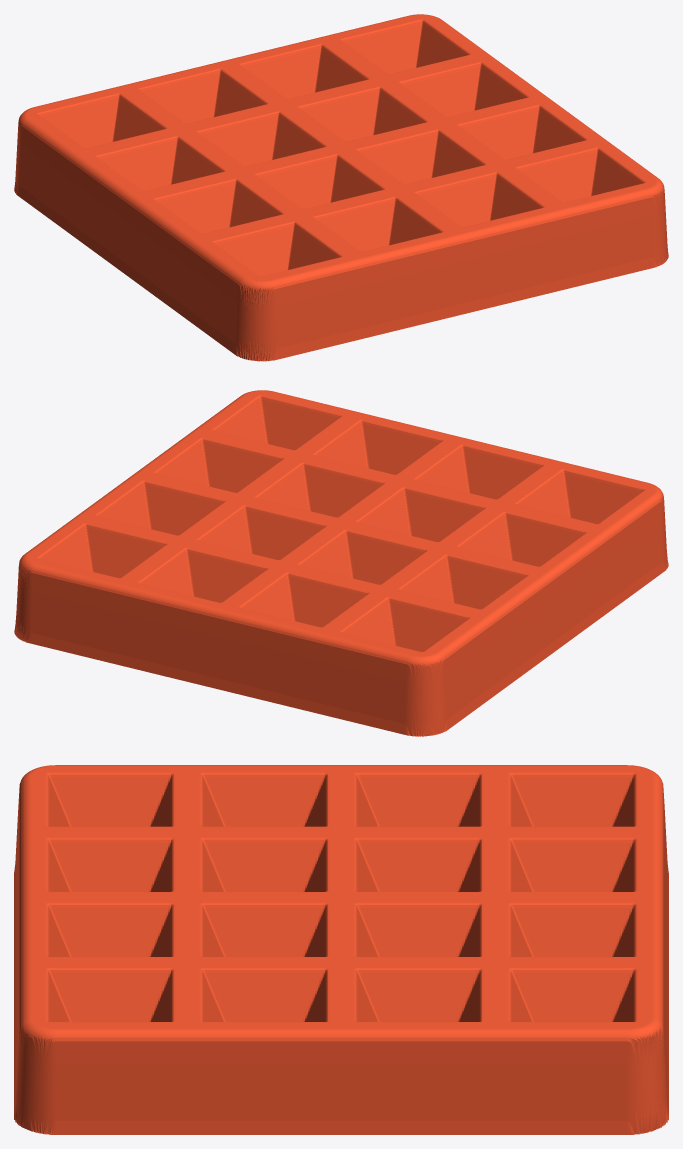
File: mold.glb
3 renders of one model, top to bottom at view 1: azimuth 30°, elevation 25°; view 2: azimuth 150°, elevation 25°; view 3: azimuth 270°, elevation 25°, orthographic. The views are drawn at different scales.
Visible parts, largest first — view 1: geometry_0; view 2: geometry_0; view 3: geometry_0.
Boxes of the visible parts, left/top/right/bottom form: geometry_0: left=14, top=14, right=668, bottom=361; geometry_0: left=14, top=390, right=668, bottom=736; geometry_0: left=14, top=765, right=668, bottom=1134.
Size of the model in its own units: 0.1413 by 0.0236 by 0.1413.
